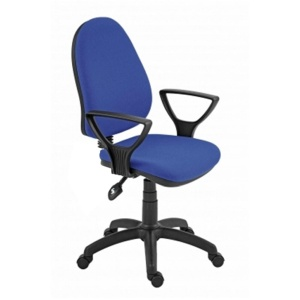chair: (70, 17, 226, 288)
